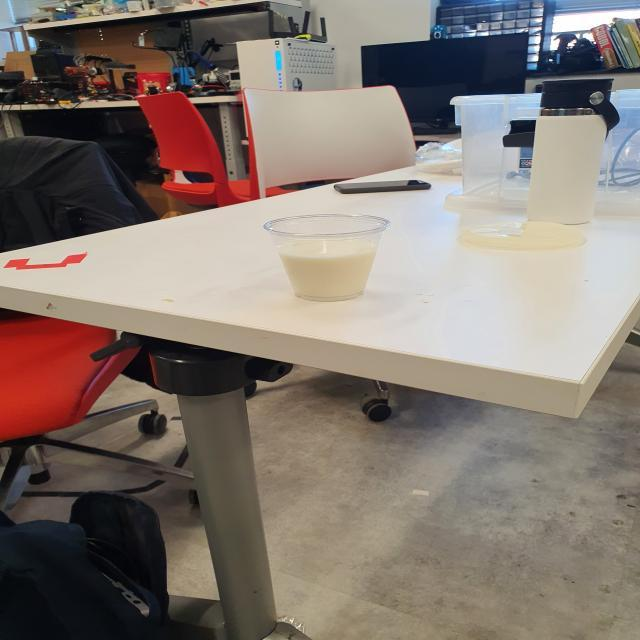milk: (250, 199, 423, 321)
